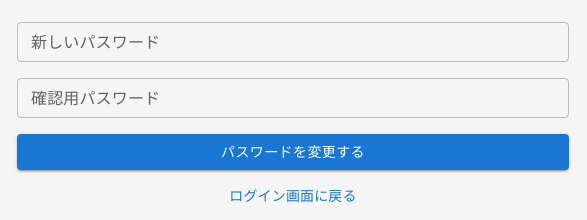
Test: PasswordResetPage › AUTH-FE-058: INVALID_TOKEN エラー時に PasswordResetTokenInvalid が表示される
Step 1. Type "NewPass1!" into the password field labelled "新しいパスワード" → (293,42), box [17,22,569,62]
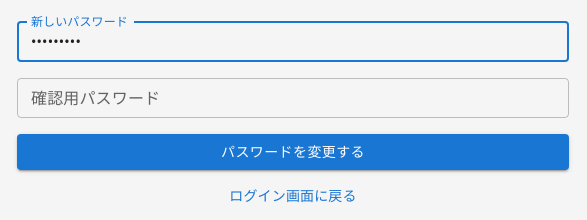
Step 2. Type "NewPass1!" into the password field labelled "確認用パスワード" → (293,98), box [17,78,569,118]
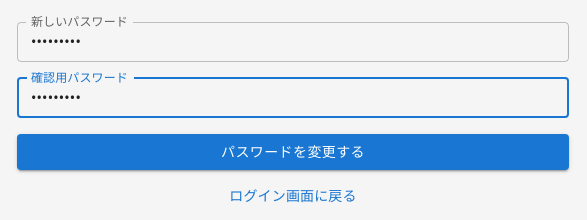
Step 3. Click the button "パスワードを変更する" → (293,152), box [17,134,569,170]
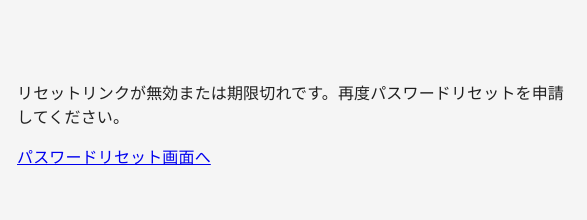
Expected: the element with test id "password-reset-token-invalid" is shown, [17,82,569,170]
